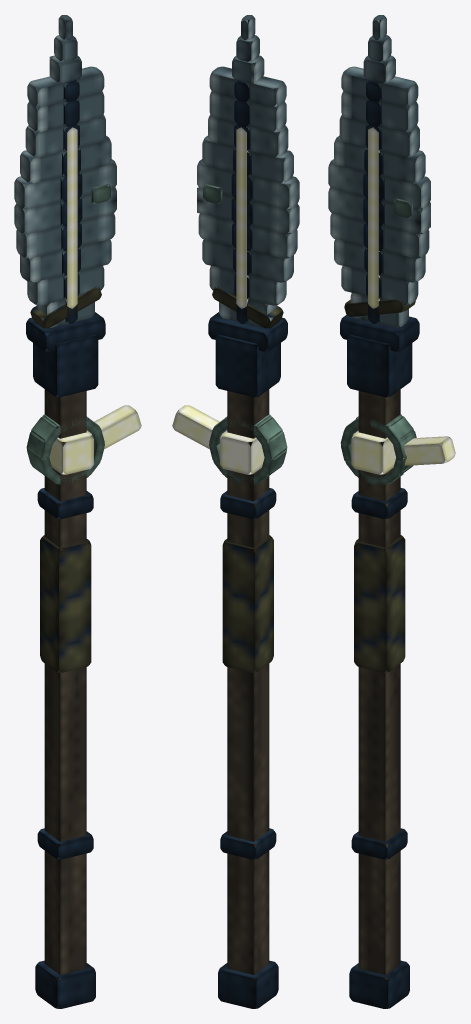
Rendered from pale_lantern.obj.
3 views of the same model, side by side, from view 1: azimuth 30°, elevation 25°; view 2: azimuth 150°, elevation 25°; view 3: azimuth 330°, elevation 25° (orthographic).
Parts seen in each view (by area): view 1: lit, fire; view 2: lit, fire; view 3: lit, fire.
Part boxes in pixels (bbox=[...]): lit: bbox=[14, 15, 116, 1008]; fire: bbox=[49, 127, 141, 474]; lit: bbox=[197, 15, 299, 1008]; fire: bbox=[172, 127, 264, 474]; lit: bbox=[328, 15, 430, 1008]; fire: bbox=[351, 127, 455, 474].
Size of the model in its own units: 0.4979 by 3.96 by 0.1875.
